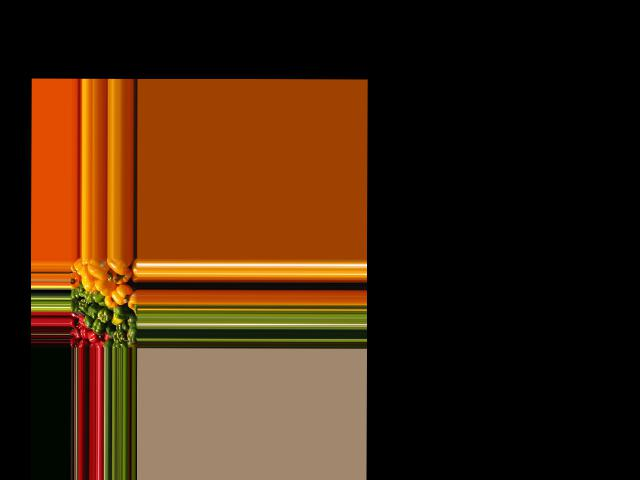bell_pepper: (126, 331, 138, 347)
